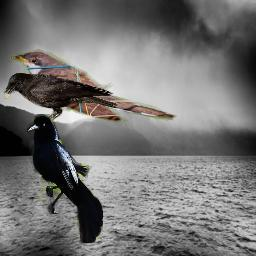Crow: (27, 114, 103, 243), (2, 72, 118, 128)
Cuckoo: (9, 47, 179, 129)
